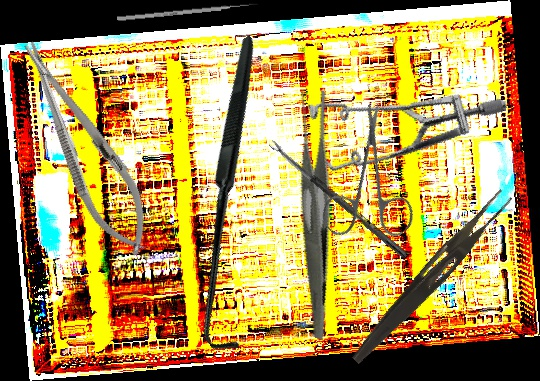Dressing Forceps: (232, 84, 394, 341), (348, 182, 514, 373)
Hook Surgical: (73, 34, 399, 361)
Iris Scissors: (284, 100, 454, 268)
Needle Holder: (4, 29, 167, 266)
Pusher: (117, 1, 258, 22)
Speculum: (285, 33, 509, 229)
Surgical Spoon: (268, 139, 409, 259)
